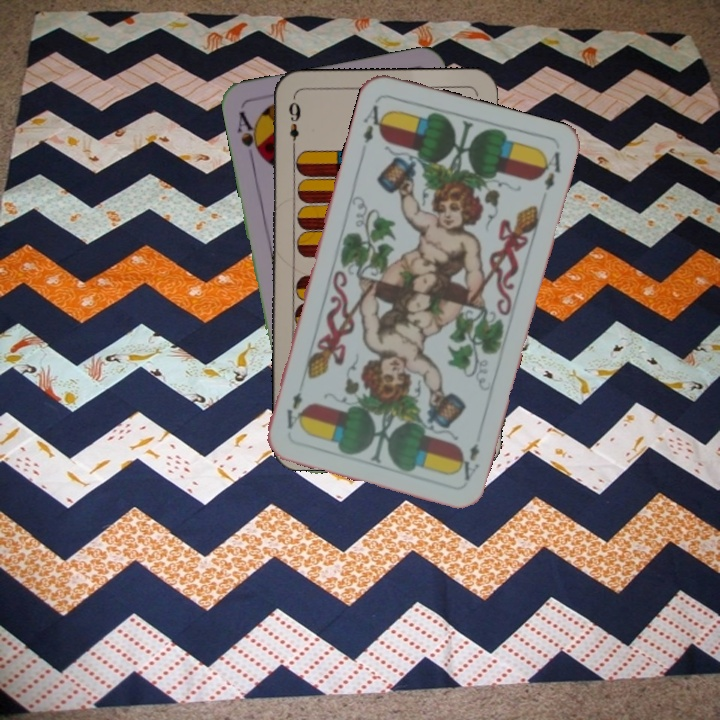E9: (285, 95, 303, 154)
EA: (359, 101, 389, 146), (453, 439, 482, 483)
SA: (233, 107, 266, 164)
